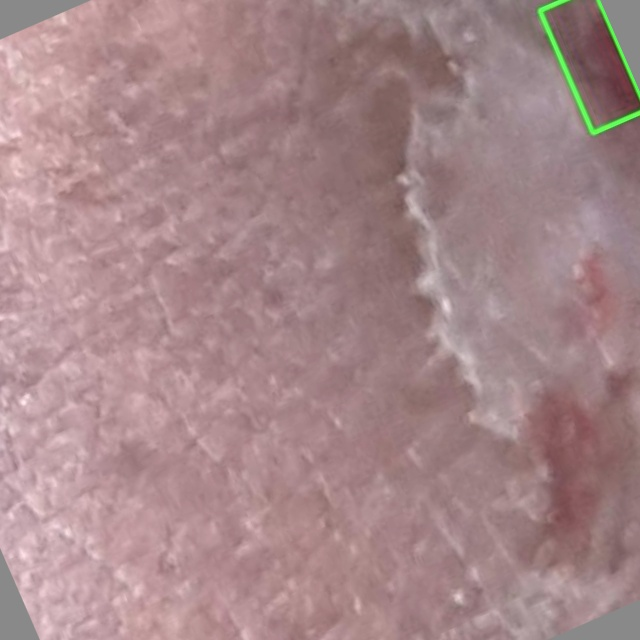Contact Dermatitis: (539, 0, 639, 132)
